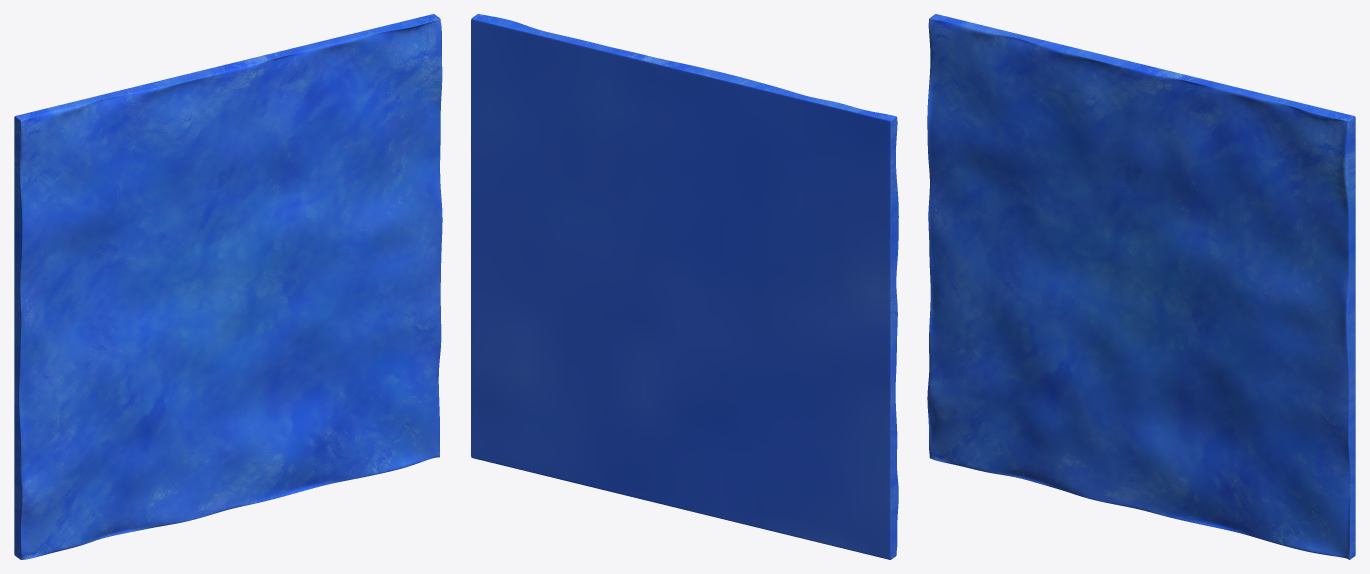
File: water.obj
3 renders of one model, left to right at view 1: azimuth 30°, elevation 25°; view 2: azimuth 150°, elevation 25°; view 3: azimuth 330°, elevation 25°, orthographic.
Parts seen in each view (by area): view 1: water; view 2: water; view 3: water.
Part boxes in pixels (x1,y1,x2,y2): water: [14, 14, 442, 559]; water: [471, 14, 898, 559]; water: [927, 14, 1355, 559].
Bounding box in the file's own units: 300 × 300 × 11.78.
Materials: 1 (1 with a texture image).
